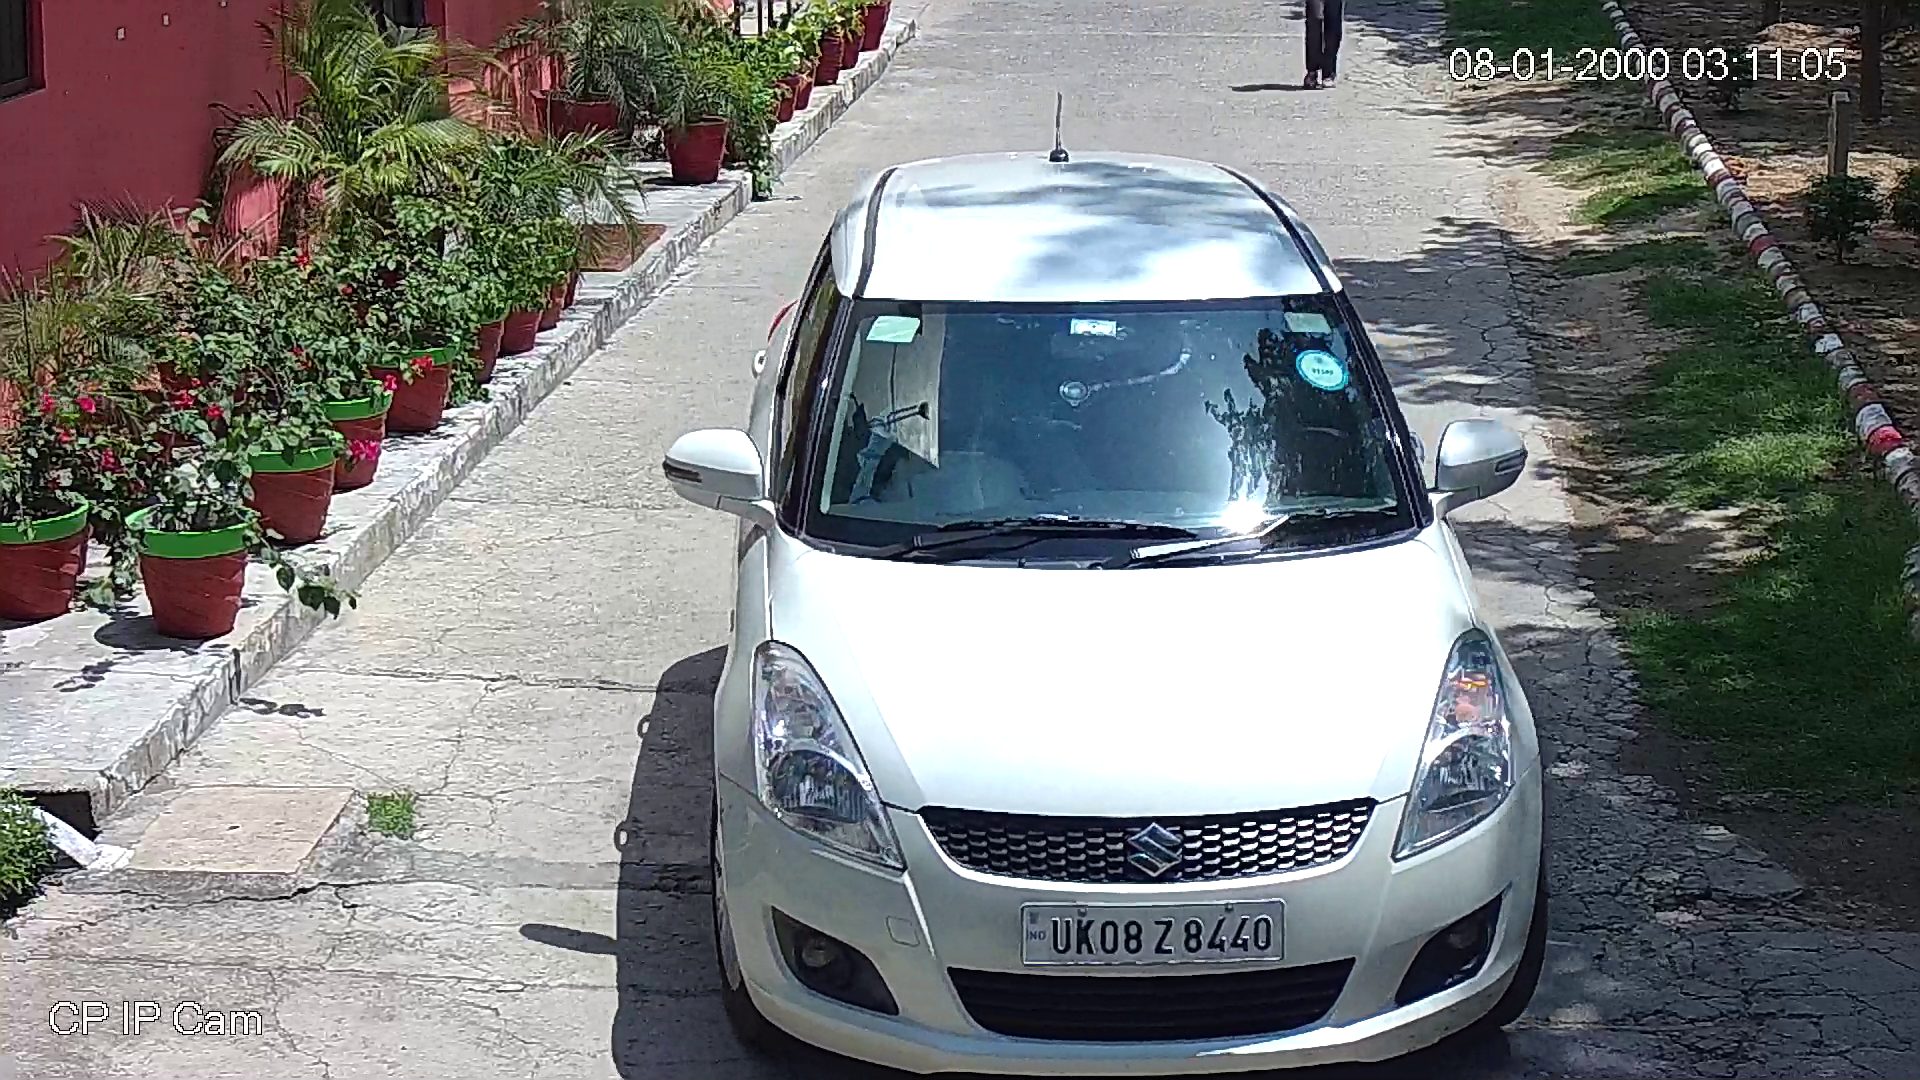plate: (1013, 888, 1300, 981)
